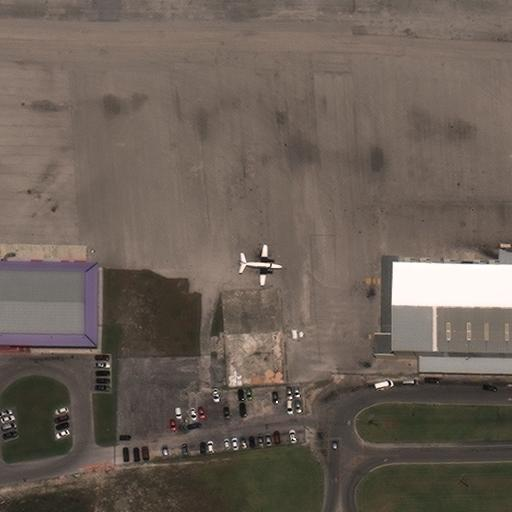Small Civil Transport: (239, 244, 282, 285)
